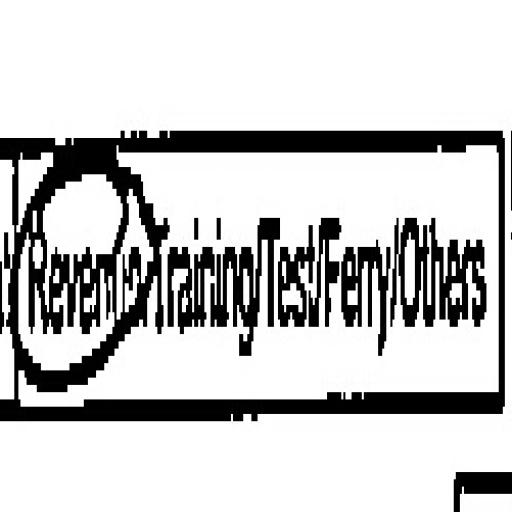check: (16, 76, 146, 490)
